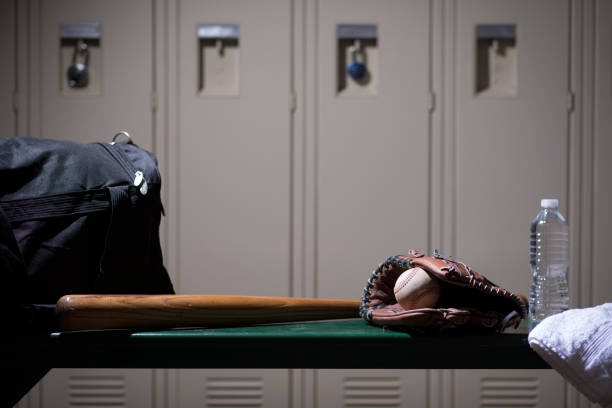bita: (54, 290, 369, 326)
